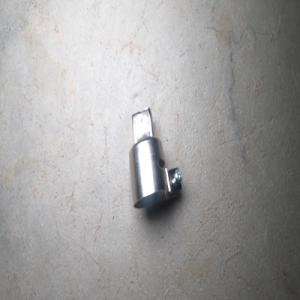MetalPart: (128, 105, 183, 209)
